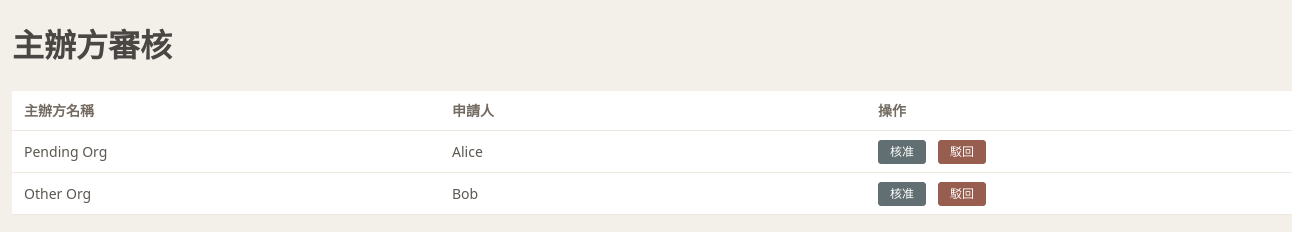
Test: AdminOrganizersPage 主辦方審核清單 › [AWU-REVIEW-002] 點選核准後呼叫核准端點成功，重新查詢清單，該筆申請自清單移除
Click the button "核准" in the row of "Pending Org" at (902, 152), box [878,140,926,164]
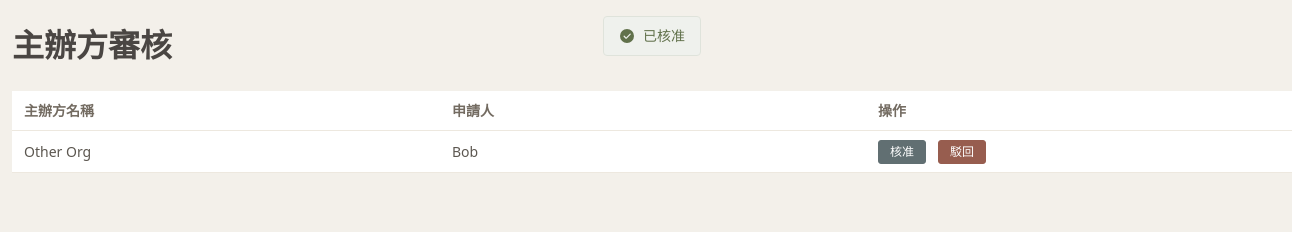
Expected: the text "Other Org" is shown, [24,142,91,161]
Expected: the text "Pending Org" is gone
